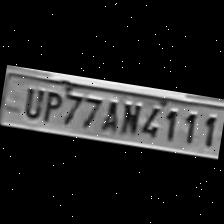1: (175, 107, 200, 145), (194, 110, 220, 146), (158, 105, 182, 142)
4: (137, 100, 164, 138)
7: (75, 92, 101, 130), (57, 88, 82, 127)
A: (95, 96, 122, 133)
N: (115, 97, 142, 134)
P: (37, 86, 64, 124)
U: (18, 82, 44, 119)
